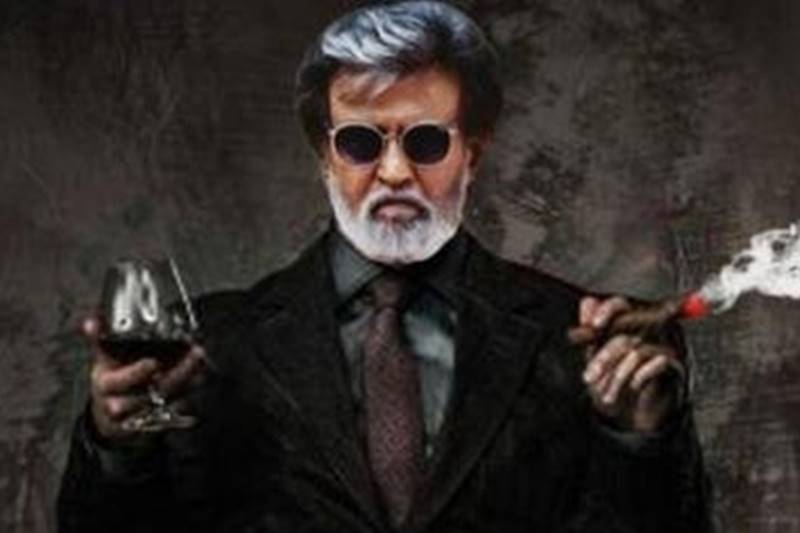cigarette: (550, 296, 746, 347)
